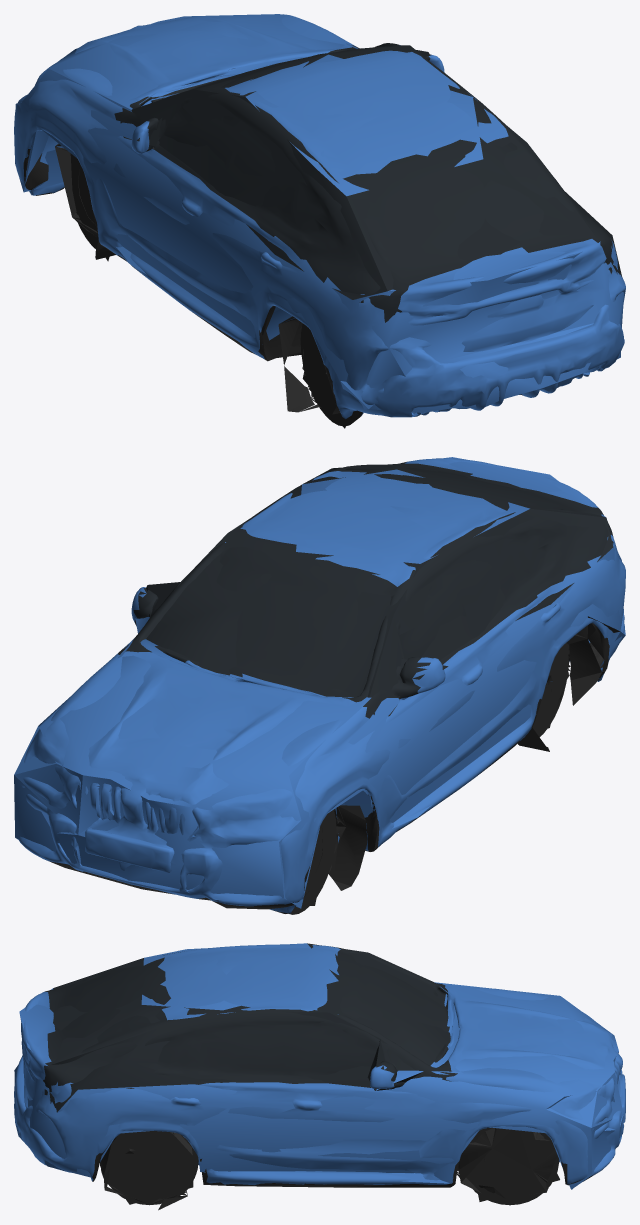
Rendered from bmw-activehybrid-x6.glb.
3 renders of one model, top to bottom at view 1: azimuth 30°, elevation 25°; view 2: azimuth 150°, elevation 25°; view 3: azimuth 270°, elevation 25°, orthographic. The views are drawn at different scales.
Visible parts, largest first — view 1: body, far; view 2: body, far; view 3: body, far.
Part boxes in pixels (x1,y1,x2,y2): body: [14, 14, 625, 426]; far: [15, 14, 623, 428]; body: [18, 458, 625, 914]; far: [14, 457, 625, 908]; body: [14, 944, 625, 1210]; far: [14, 943, 623, 1204].
Bounding box in the file's own units: 2.21 × 1.72 × 4.87.
